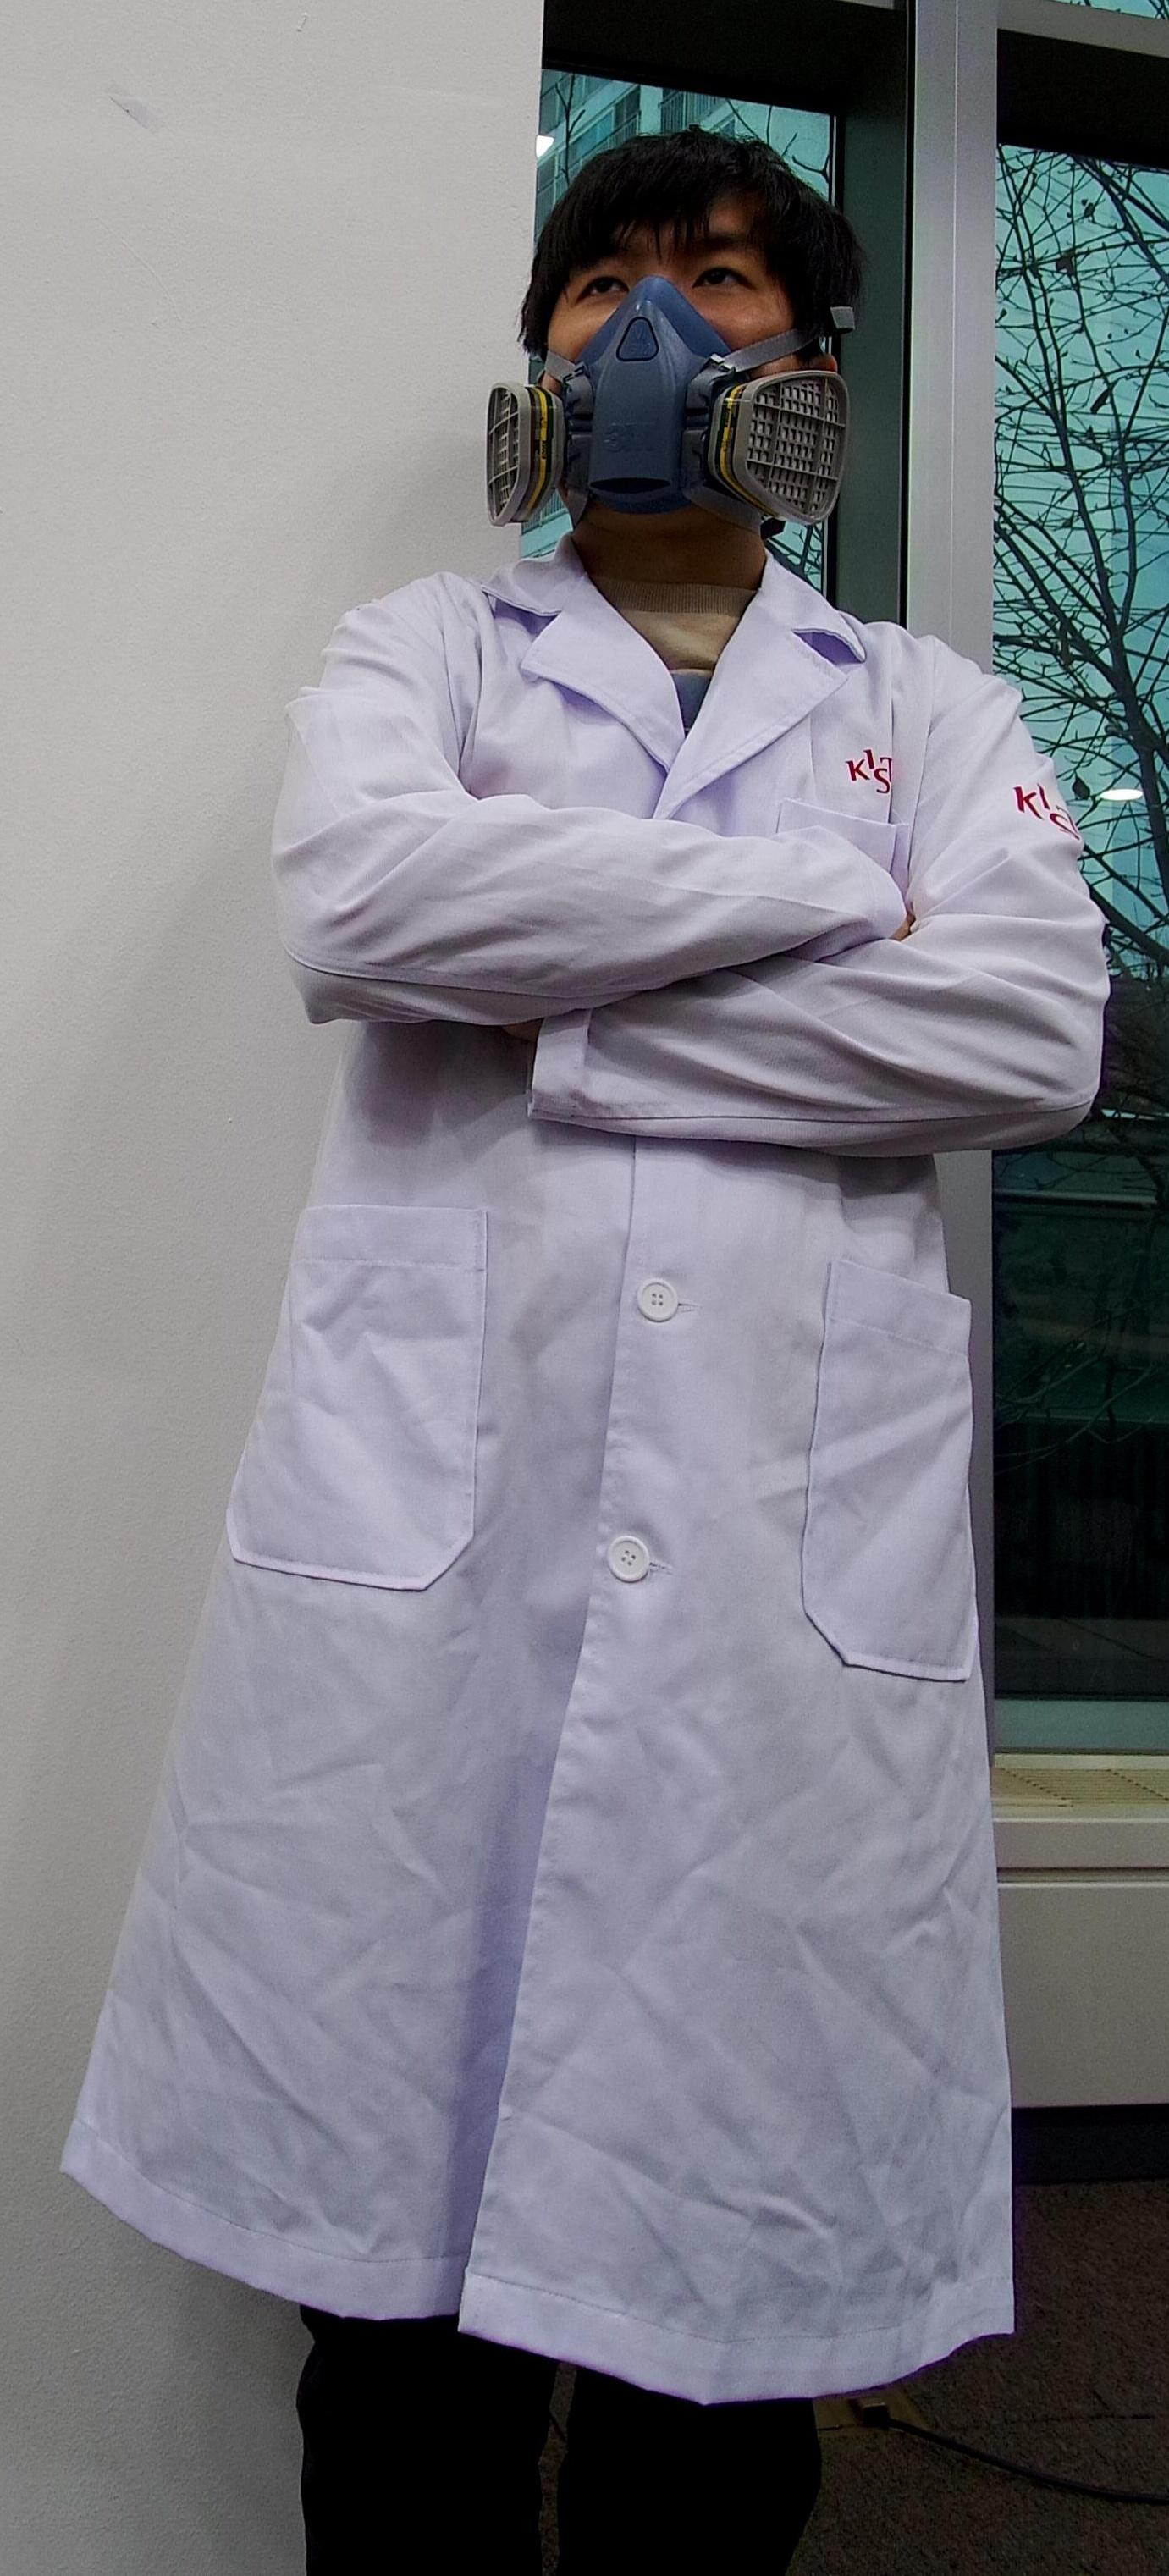lab_coat: (200, 572, 1020, 2367)
